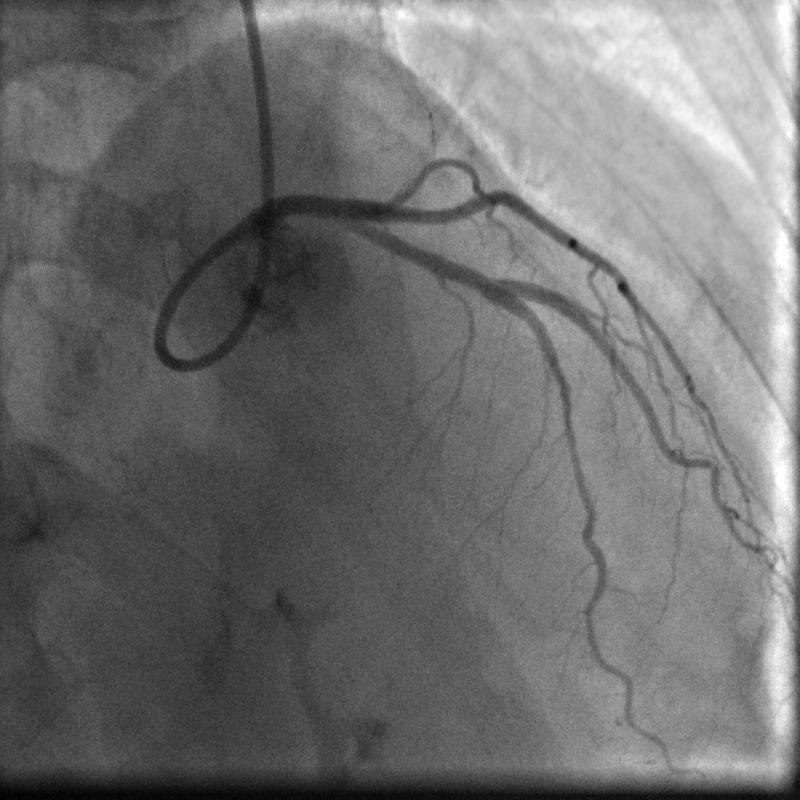Stenosis: (470, 266, 496, 300)
